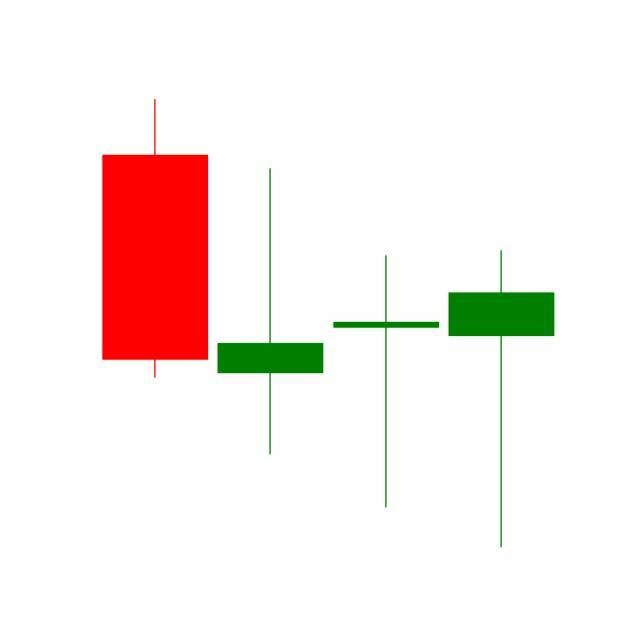Up-Down Gap Side-by-side White Lines: (211, 164, 555, 548)
